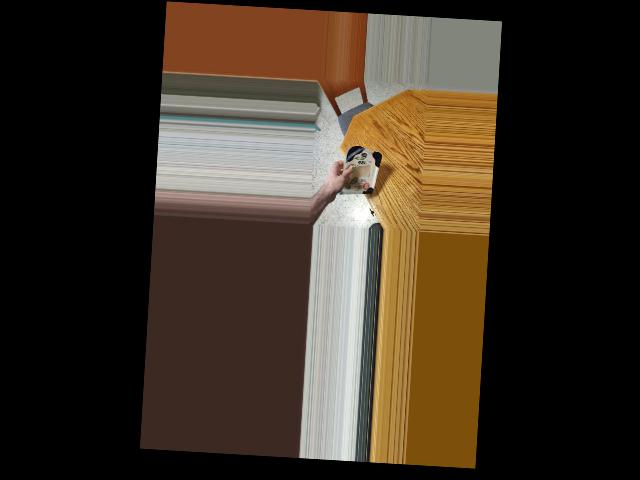cheese: (339, 143, 380, 207)
